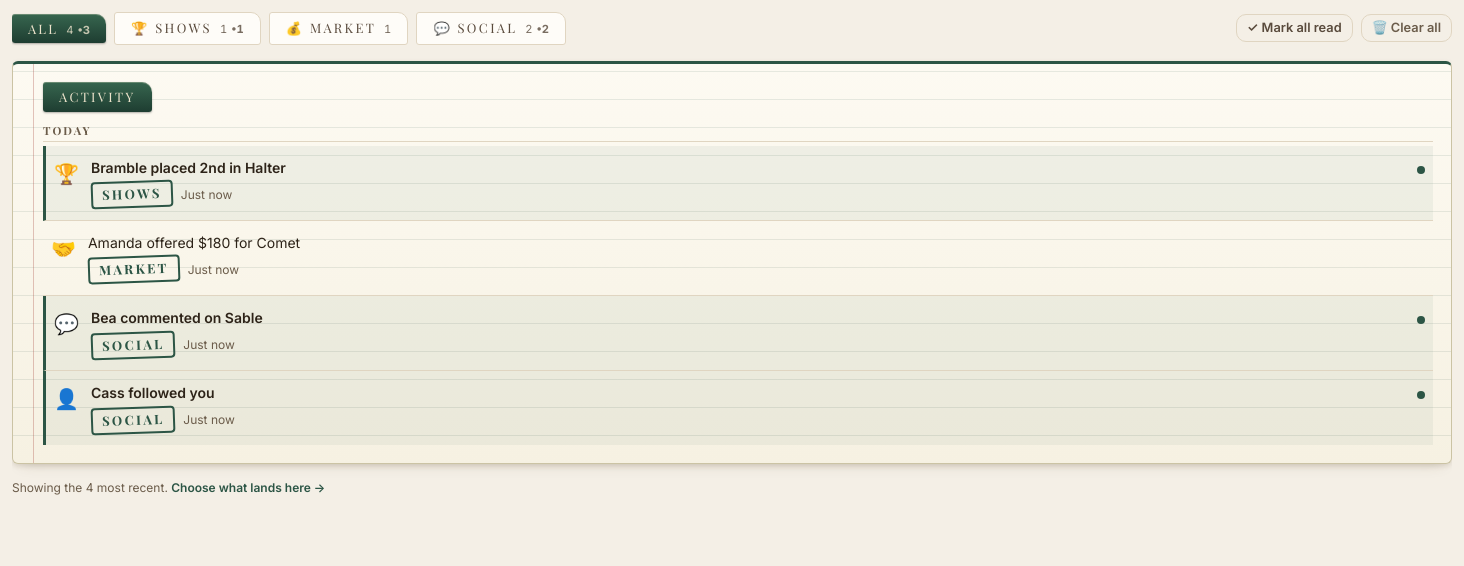
Scenario: NotificationList — actions › makes clearing a two-step action and says what it destroys
Click the button "🗑️ Clear all" at [1406, 28], box [1361, 14, 1452, 42]
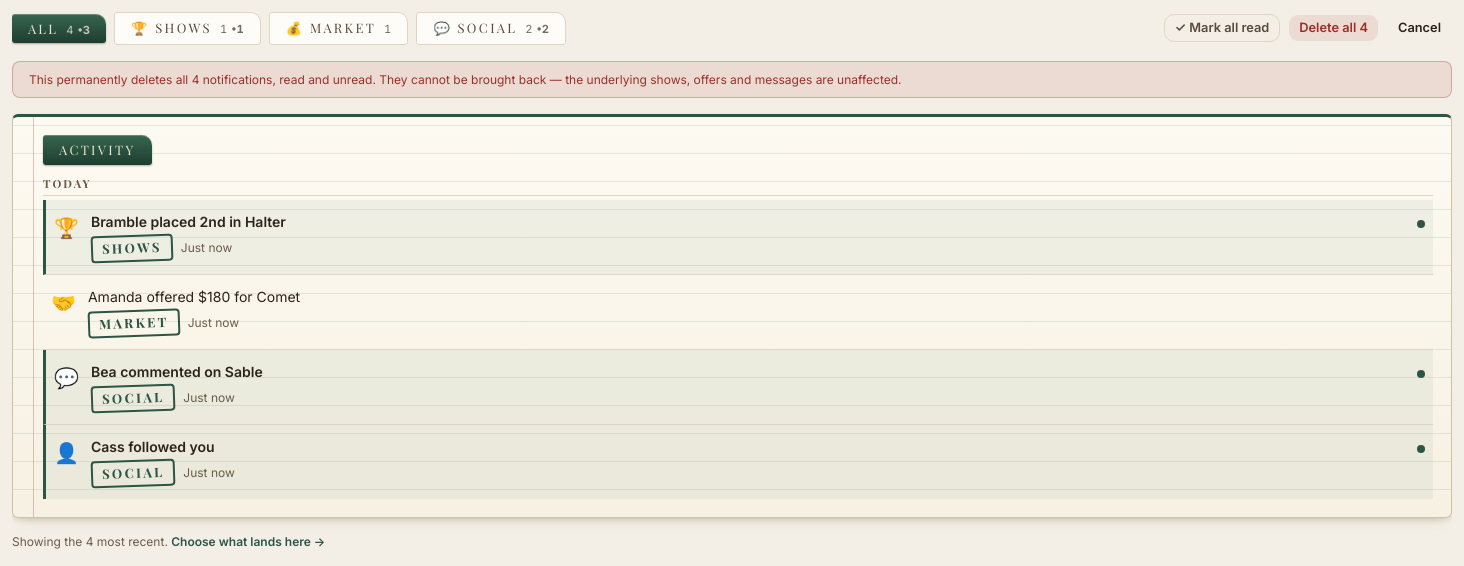
Expected: the text "permanently deletes all 4 notifications" is shown, [12, 61, 1452, 98]
Click the button "Delete all 4" at [1334, 28], box [1288, 14, 1379, 42]
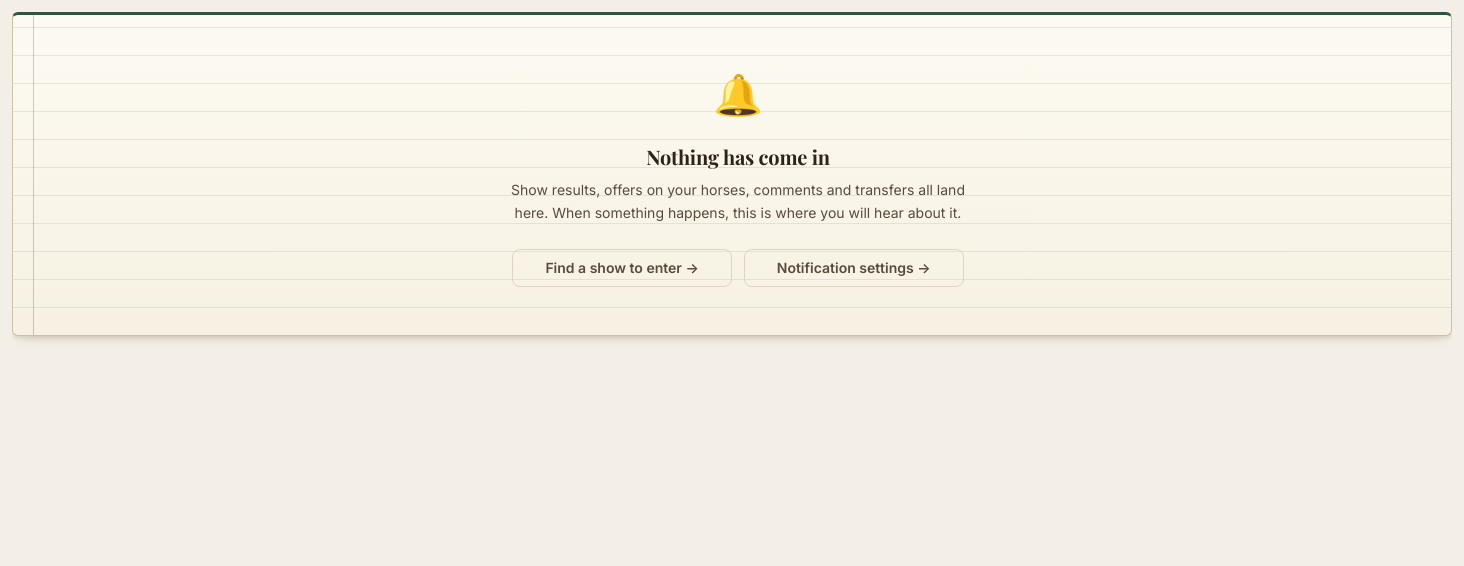
Expected: the heading "Nothing has come in" is shown, [646, 143, 830, 170]
